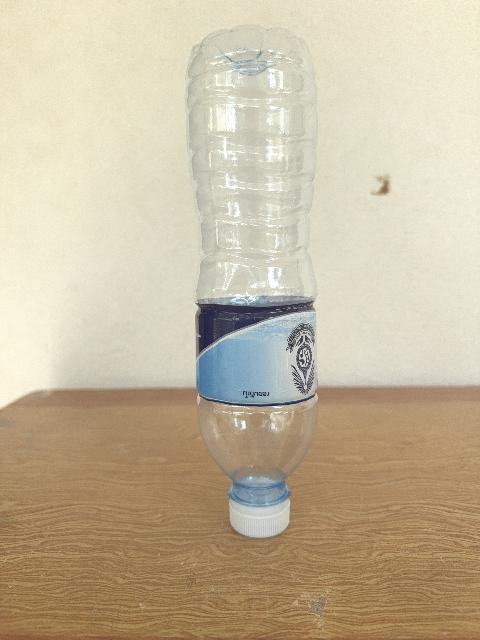bottle: (185, 26, 316, 537)
